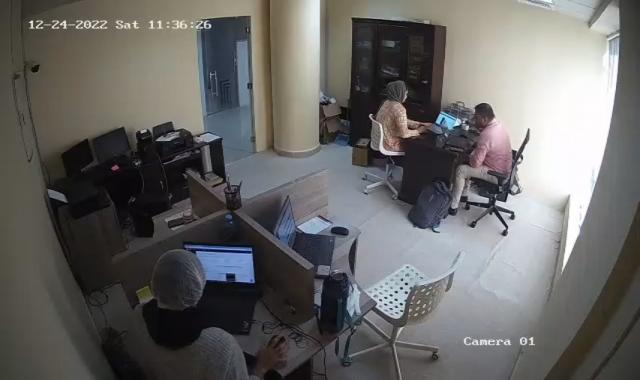hairnet: (150, 250, 210, 320)
no_hairnet: (385, 77, 409, 107), (474, 100, 494, 130)
